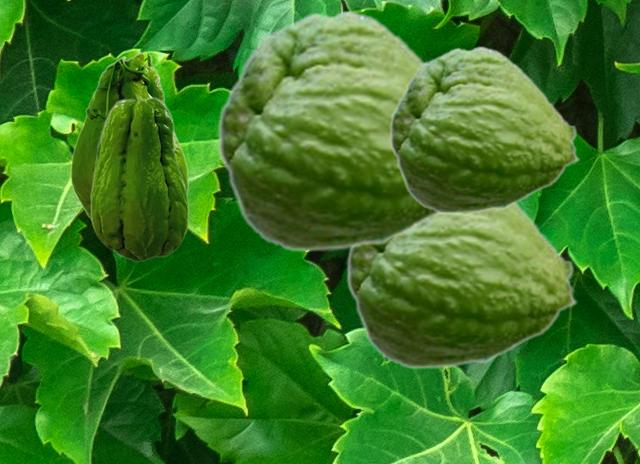sayote: (217, 9, 449, 252), (346, 204, 578, 369), (389, 45, 580, 214), (70, 51, 188, 218), (90, 96, 188, 261)
